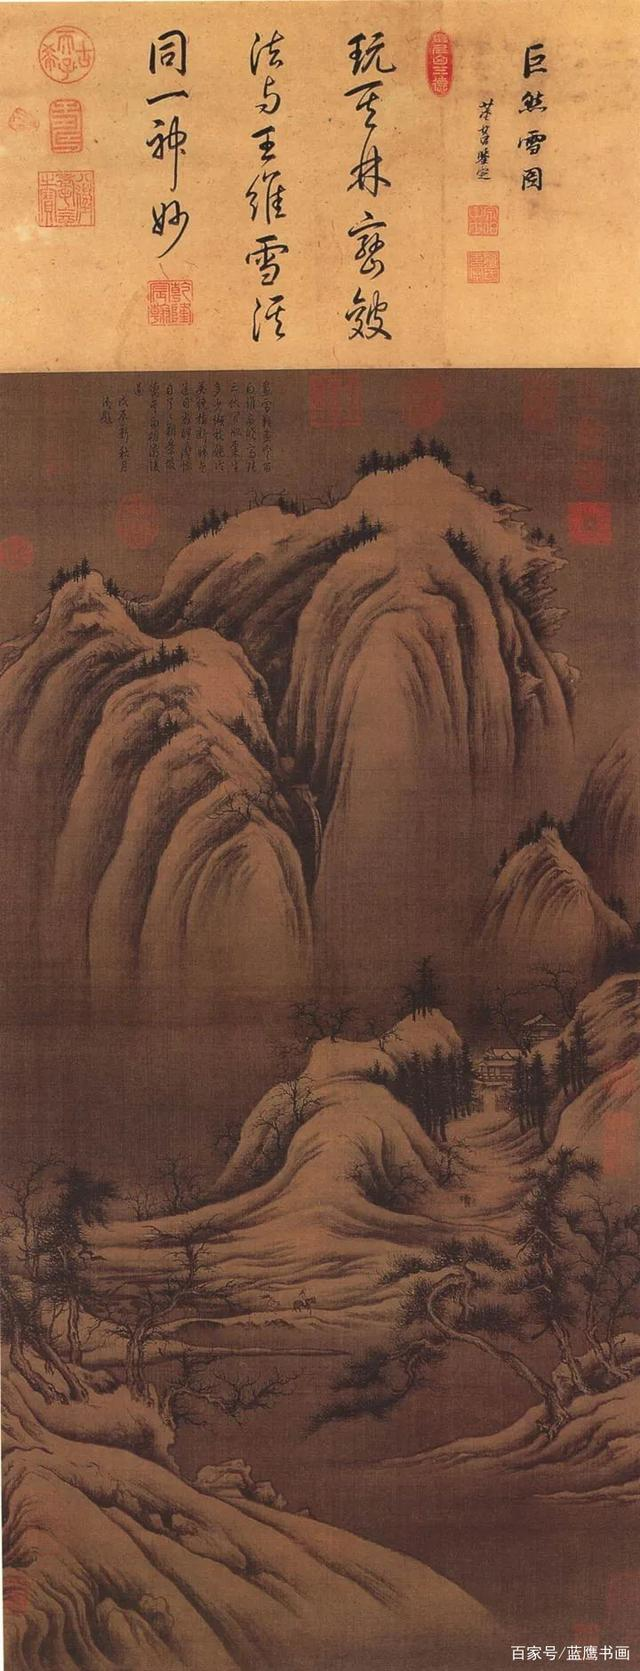horse: (294, 1297, 321, 1315)
house: (483, 1011, 558, 1101)
man: (264, 1292, 278, 1312), (294, 1286, 307, 1305), (460, 1194, 477, 1206)
mountain: (24, 433, 583, 978)
river: (265, 1381, 611, 1627)
tree: (522, 1162, 626, 1391), (19, 1177, 92, 1360), (163, 1364, 261, 1429), (386, 1053, 464, 1132), (112, 1293, 158, 1400), (166, 1216, 212, 1284), (397, 957, 432, 1017), (306, 998, 345, 1043), (161, 1159, 192, 1211), (281, 1069, 306, 1129)
